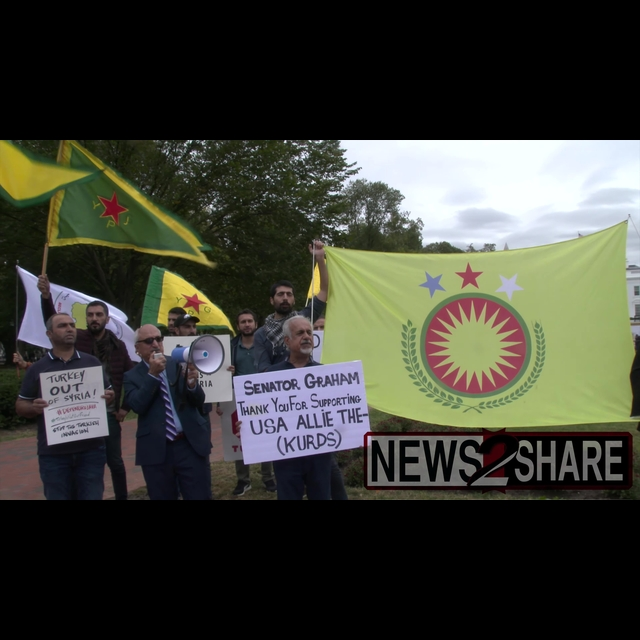YPG: (174, 284, 214, 319)
YPJ: (90, 193, 132, 234)
